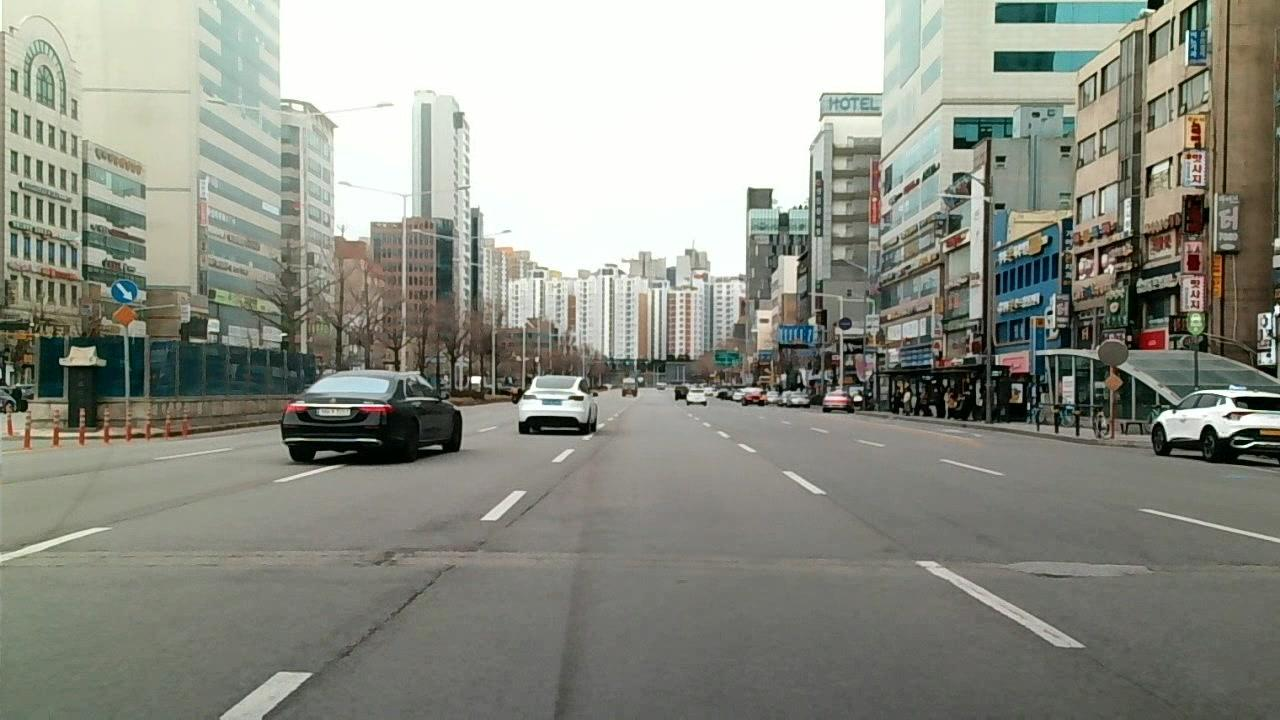banner: (7, 545, 1280, 577), (312, 571, 442, 674), (828, 496, 890, 537), (503, 490, 552, 528)
